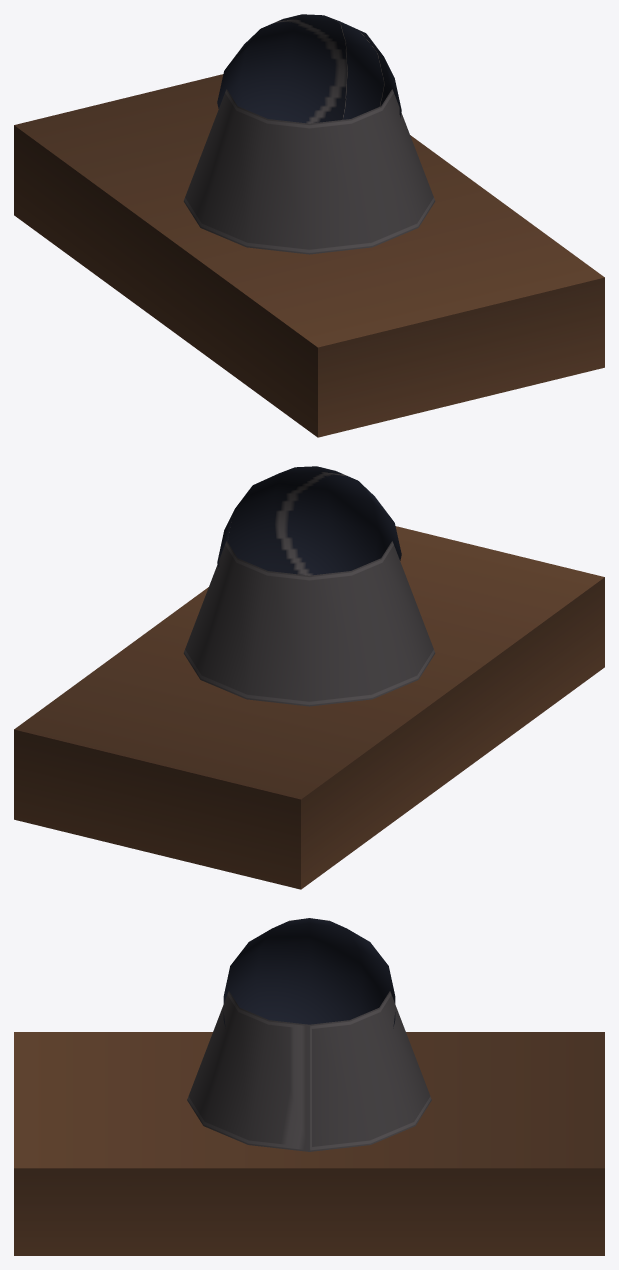
The model's file is torture_rack.glb.
3 renders of one model, top to bottom at view 1: azimuth 30°, elevation 25°; view 2: azimuth 150°, elevation 25°; view 3: azimuth 270°, elevation 25°, orthographic. The views are drawn at different scales.
Visible parts, largest first — view 1: torture_rack; view 2: torture_rack; view 3: torture_rack.
Boxes of the visible parts, x1=… form: torture_rack: x1=14, y1=14, x2=604, y2=437; torture_rack: x1=14, y1=466, x2=604, y2=889; torture_rack: x1=14, y1=918, x2=604, y2=1255.
Size of the model in its own units: 1.2 by 1.07 by 2.2.
Materials: 1 (1 with a texture image).
